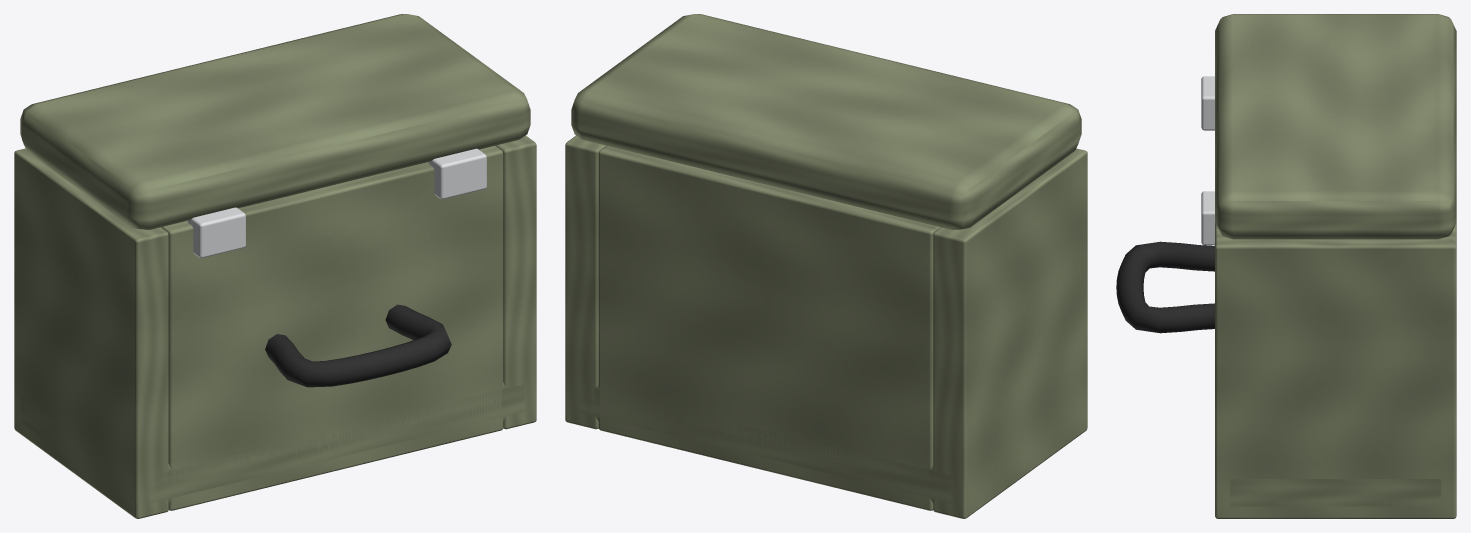
The model's file is fps-weapon-set-and-firing-range-ammo-can-88f7c12d__19507.glb.
The picture shows the model from 3 angles, left to right: view 1: azimuth 30°, elevation 25°; view 2: azimuth 150°, elevation 25°; view 3: azimuth 270°, elevation 25°; orthographic projection. The views are drawn at different scales.
Parts seen in each view (by area): view 1: ammo-can, lid; view 2: ammo-can, lid; view 3: ammo-can, lid.
Boxes of the visible parts, x1,y1,x2,y2 form: ammo-can: [14, 135, 536, 518]; lid: [20, 14, 530, 229]; ammo-can: [565, 135, 1087, 518]; lid: [571, 14, 1081, 229]; ammo-can: [1116, 76, 1456, 518]; lid: [1215, 14, 1456, 239].
Size of the model in its own units: 0.3 by 0.235 by 0.2253.
3 materials, 1 textured.
